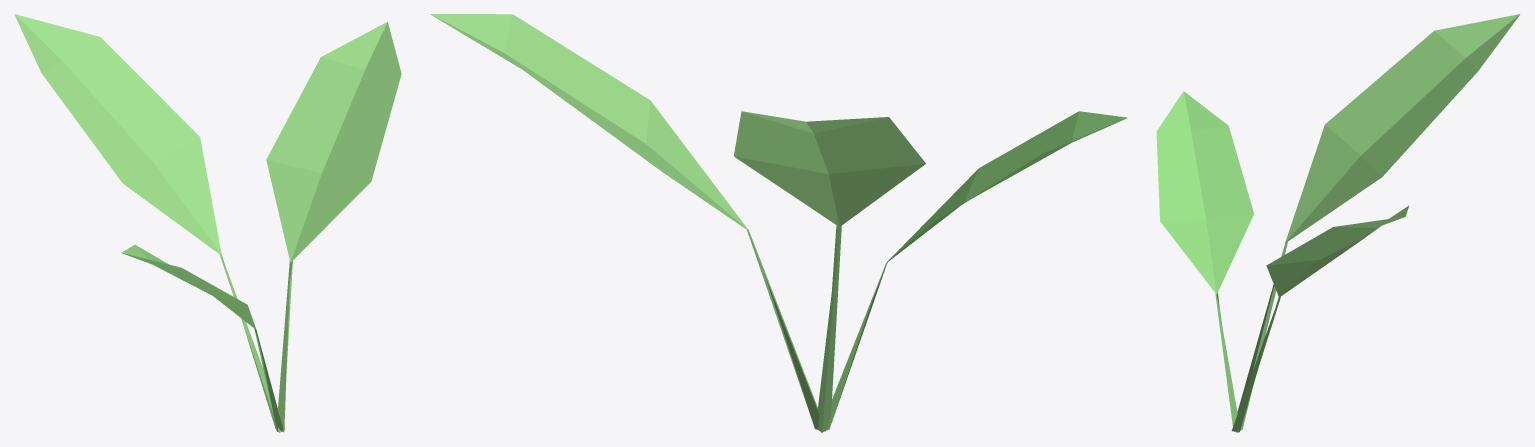
File: Plant_j_TwoS_08.fbx
3 views of the same model, side by side, from view 1: azimuth 30°, elevation 25°; view 2: azimuth 150°, elevation 25°; view 3: azimuth 270°, elevation 25° (orthographic). The views are drawn at different scales.
Visible parts, largest first — view 1: Plant_j_TwoS_08; view 2: Plant_j_TwoS_08; view 3: Plant_j_TwoS_08.
Boxes of the visible parts, left/top/right/bottom form: Plant_j_TwoS_08: left=14, top=14, right=401, bottom=432; Plant_j_TwoS_08: left=430, top=14, right=1127, bottom=432; Plant_j_TwoS_08: left=1156, top=14, right=1520, bottom=432.
Size of the model in its own units: 27.49 by 24.22 by 22.62.
